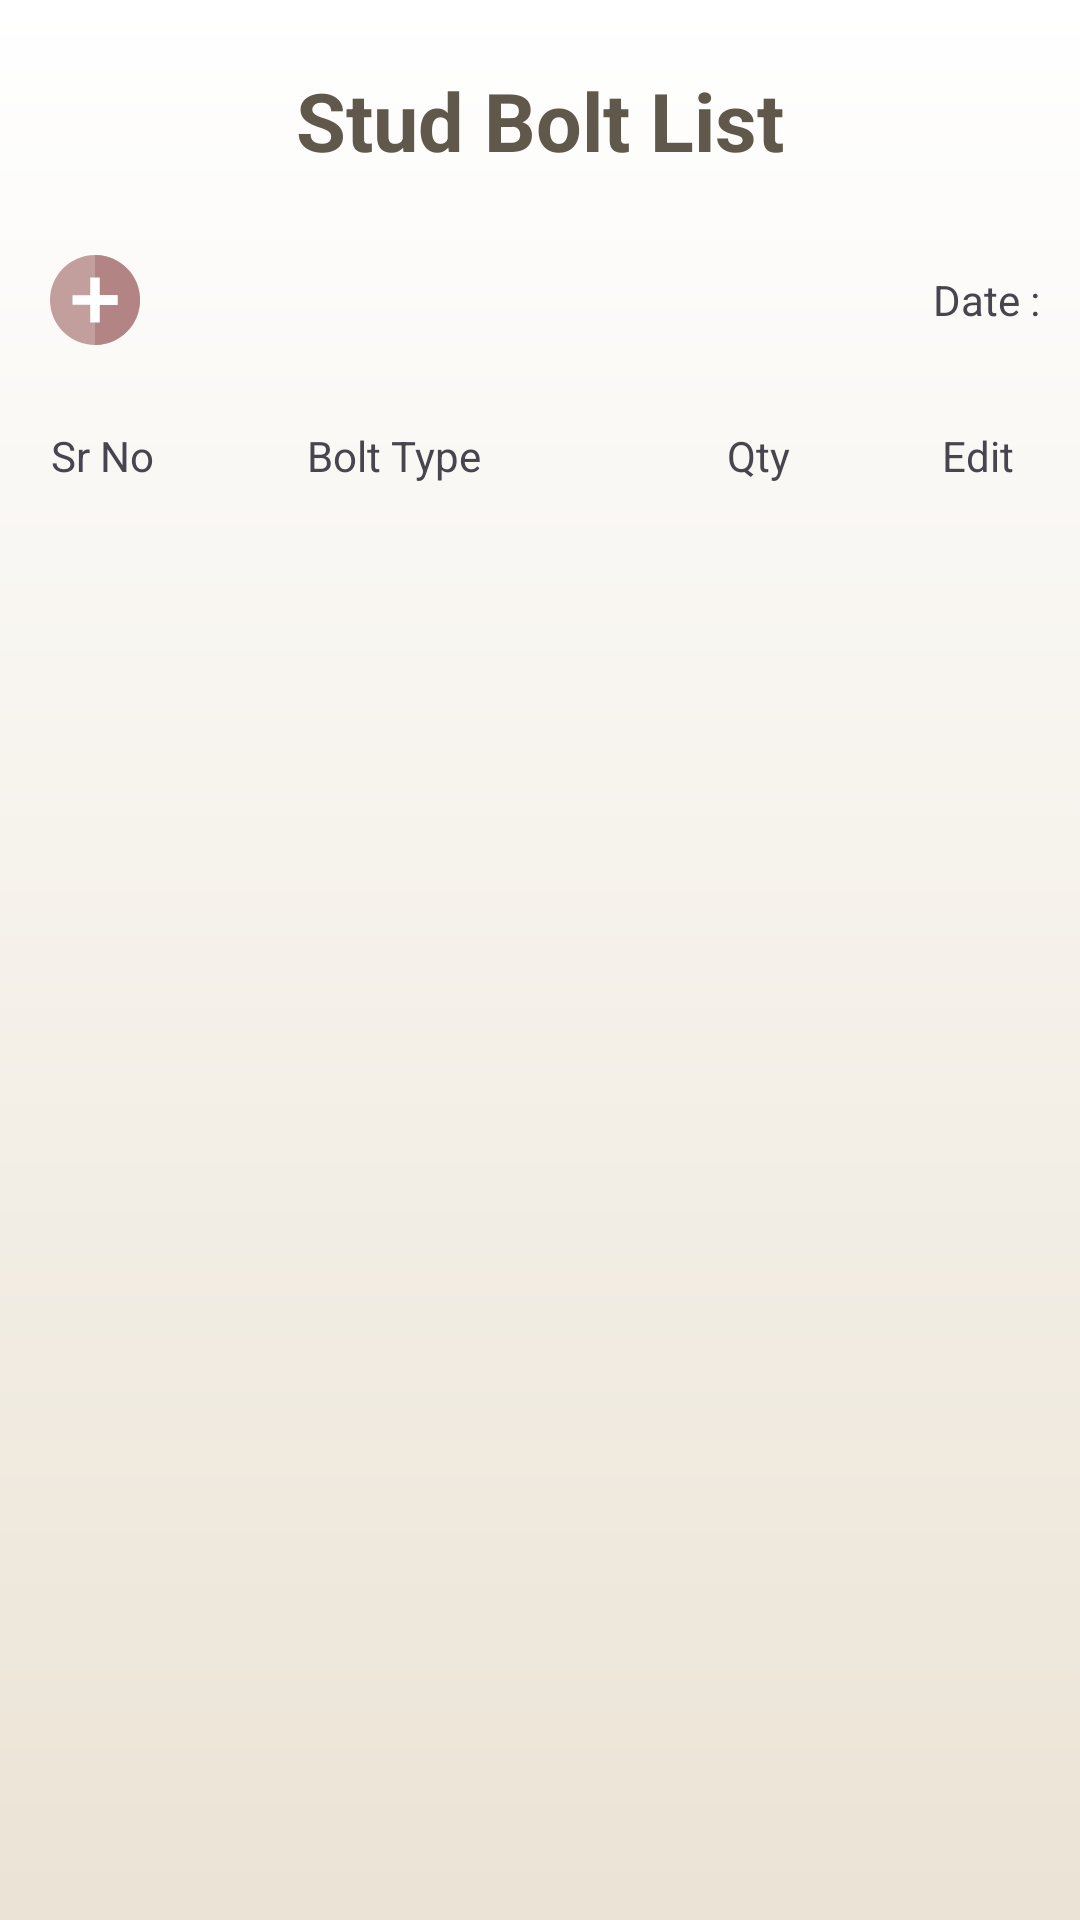

Point at icon controls on the screen. Image size 1080x1920, points as [x,y].
add: [95,300]
